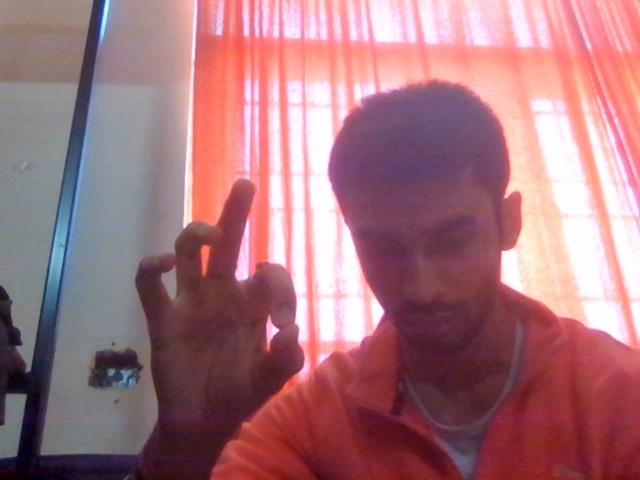F: (92, 161, 320, 447)
